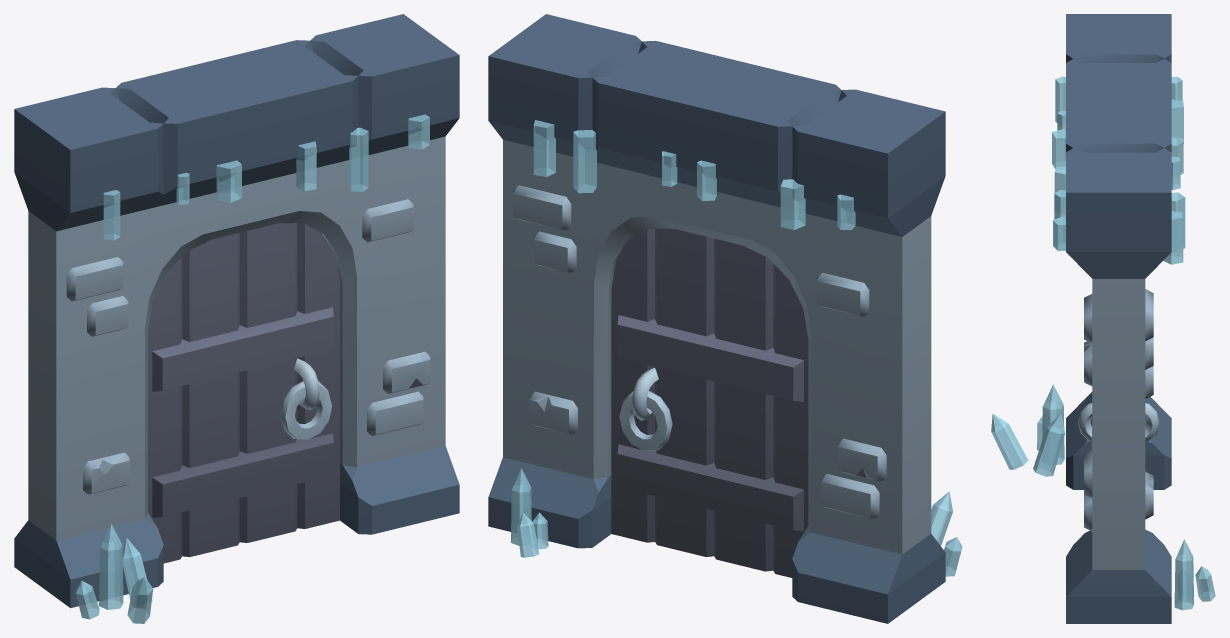
File: door.fbx
The picture shows the model from 3 angles, left to right: view 1: azimuth 30°, elevation 25°; view 2: azimuth 150°, elevation 25°; view 3: azimuth 270°, elevation 25°; orthographic projection. The views are drawn at different scales.
Visible parts, largest first — view 1: door, Door; view 2: door, Door; view 3: door, Door.
Part boxes in pixels (x1,y1,x2,y2): door: (14,14,459,623); Door: (148,223,339,563); door: (488,14,962,623); Door: (611,228,808,577); door: (991,14,1215,623); Door: (1078,403,1159,450).
Bounding box in the file's own units: 4.05 × 4.54 × 2.12.
